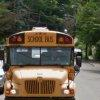buses: (0, 26, 82, 99)
